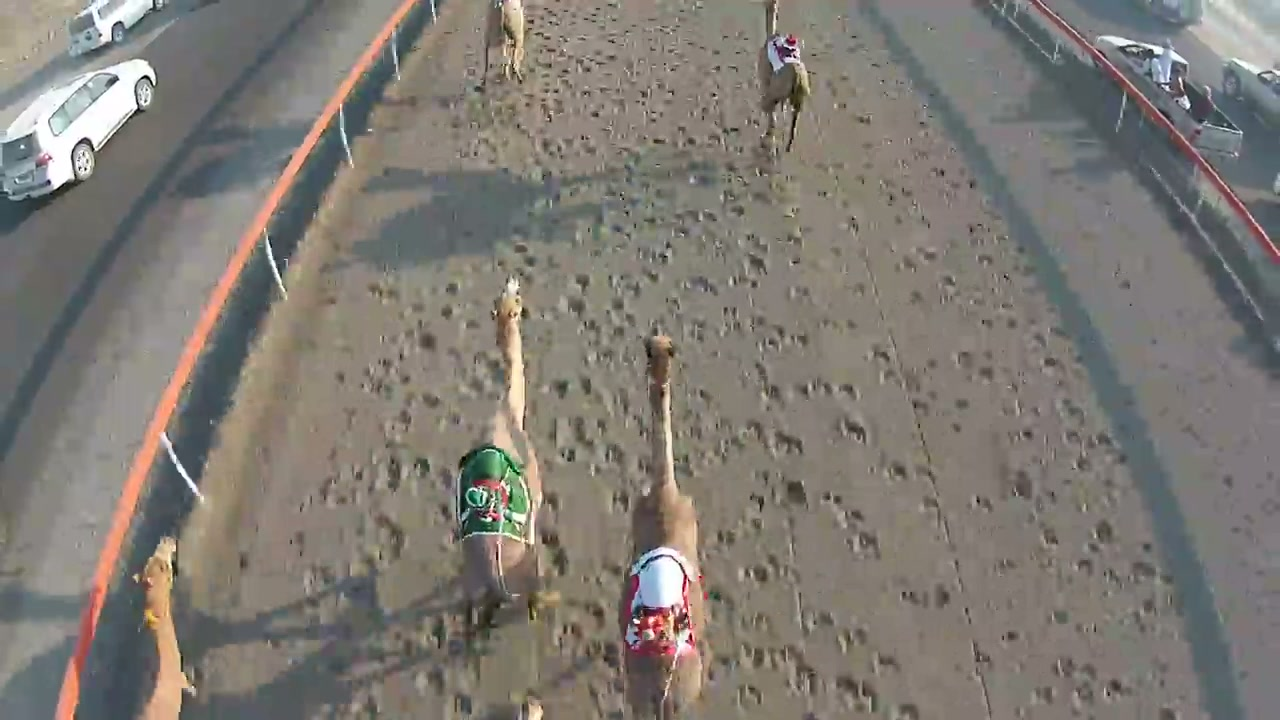animal_foot_print: (291, 35, 564, 704), (708, 68, 924, 719), (524, 80, 689, 700)
